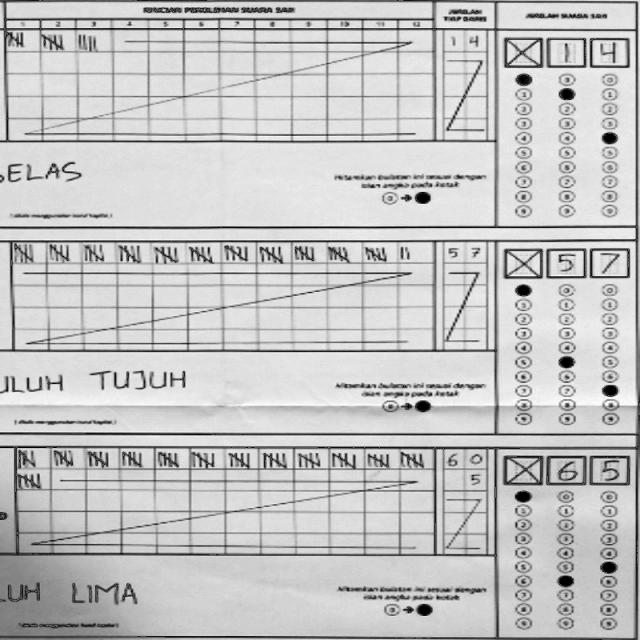Suara: (500, 27, 630, 71), (498, 240, 631, 282), (497, 448, 633, 488)
